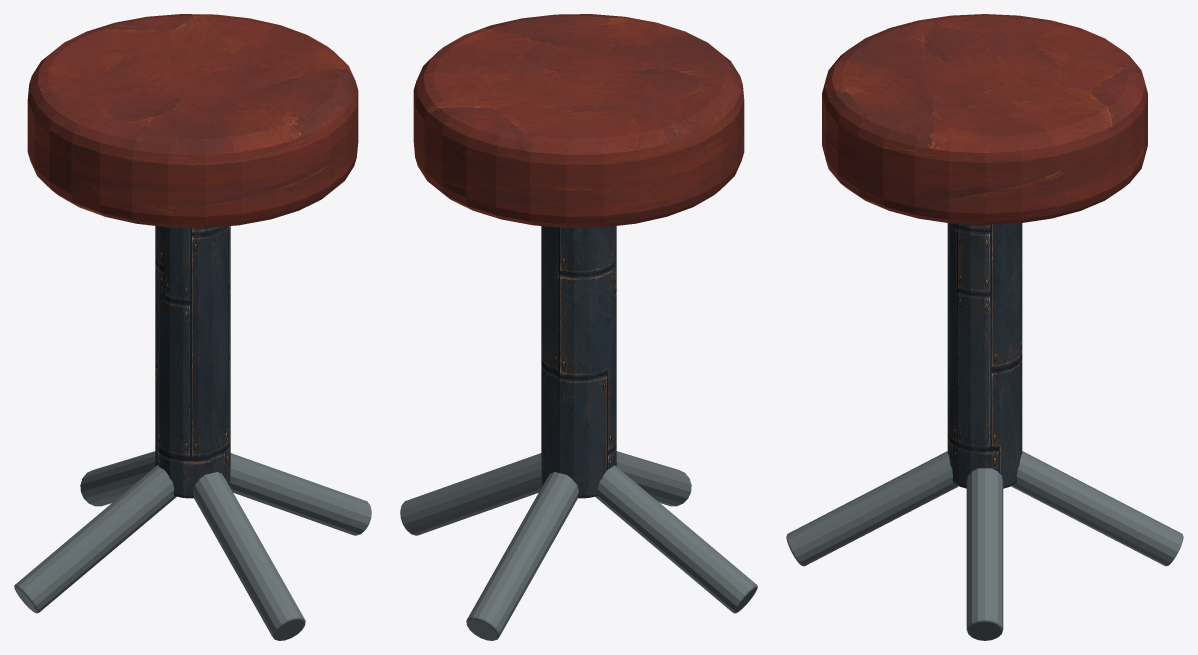
Rendered from APT_Stool_Bar_Rust.glb.
3 views of the same model, side by side, from view 1: azimuth 30°, elevation 25°; view 2: azimuth 150°, elevation 25°; view 3: azimuth 270°, elevation 25° (orthographic).
Visible parts, largest first — view 1: APT_Stool_Bar_Rust_Seat, APT_Stool_Bar_Rust_Post, APT_Stool_Bar_Rust_Leg_2, APT_Stool_Bar_Rust_Leg_3, APT_Stool_Bar_Rust_Leg_0, APT_Stool_Bar_Rust_Leg_1; view 2: APT_Stool_Bar_Rust_Seat, APT_Stool_Bar_Rust_Post, APT_Stool_Bar_Rust_Leg_2, APT_Stool_Bar_Rust_Leg_1, APT_Stool_Bar_Rust_Leg_0, APT_Stool_Bar_Rust_Leg_3; view 3: APT_Stool_Bar_Rust_Seat, APT_Stool_Bar_Rust_Post, APT_Stool_Bar_Rust_Leg_1, APT_Stool_Bar_Rust_Leg_3, APT_Stool_Bar_Rust_Leg_0.
Part boxes in pixels (bbox=[...]): APT_Stool_Bar_Rust_Seat: bbox=[27, 14, 358, 227]; APT_Stool_Bar_Rust_Post: bbox=[155, 226, 230, 498]; APT_Stool_Bar_Rust_Leg_2: bbox=[14, 465, 176, 613]; APT_Stool_Bar_Rust_Leg_3: bbox=[193, 472, 305, 640]; APT_Stool_Bar_Rust_Leg_0: bbox=[229, 453, 371, 535]; APT_Stool_Bar_Rust_Leg_1: bbox=[80, 451, 155, 506]; APT_Stool_Bar_Rust_Seat: bbox=[413, 14, 744, 227]; APT_Stool_Bar_Rust_Post: bbox=[541, 226, 616, 498]; APT_Stool_Bar_Rust_Leg_2: bbox=[595, 465, 757, 613]; APT_Stool_Bar_Rust_Leg_1: bbox=[466, 472, 578, 640]; APT_Stool_Bar_Rust_Leg_0: bbox=[400, 453, 542, 535]; APT_Stool_Bar_Rust_Leg_3: bbox=[616, 451, 691, 506]; APT_Stool_Bar_Rust_Seat: bbox=[822, 14, 1147, 224]; APT_Stool_Bar_Rust_Post: bbox=[947, 223, 1022, 488]; APT_Stool_Bar_Rust_Leg_1: bbox=[1011, 451, 1183, 566]; APT_Stool_Bar_Rust_Leg_3: bbox=[786, 451, 958, 566]; APT_Stool_Bar_Rust_Leg_0: bbox=[966, 468, 1003, 640].
Bounding box in the file's own units: 0.5844 × 0.7923 × 0.5844.
Materials: 3 (2 with a texture image).
